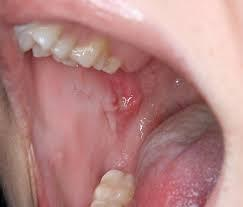Ulcer: (111, 84, 141, 113)
